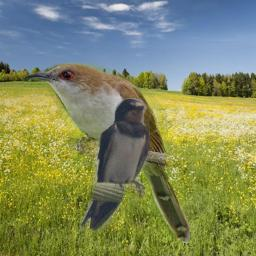Cuckoo: (22, 63, 190, 243)
Swallow: (80, 98, 150, 231)
